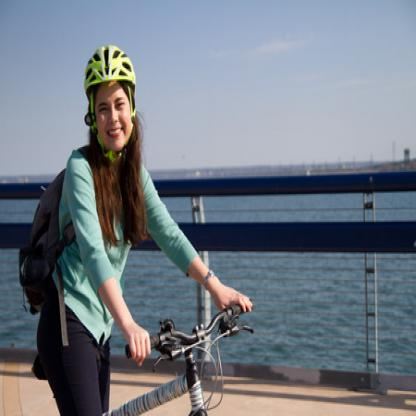With Helmet: (80, 44, 140, 154)
